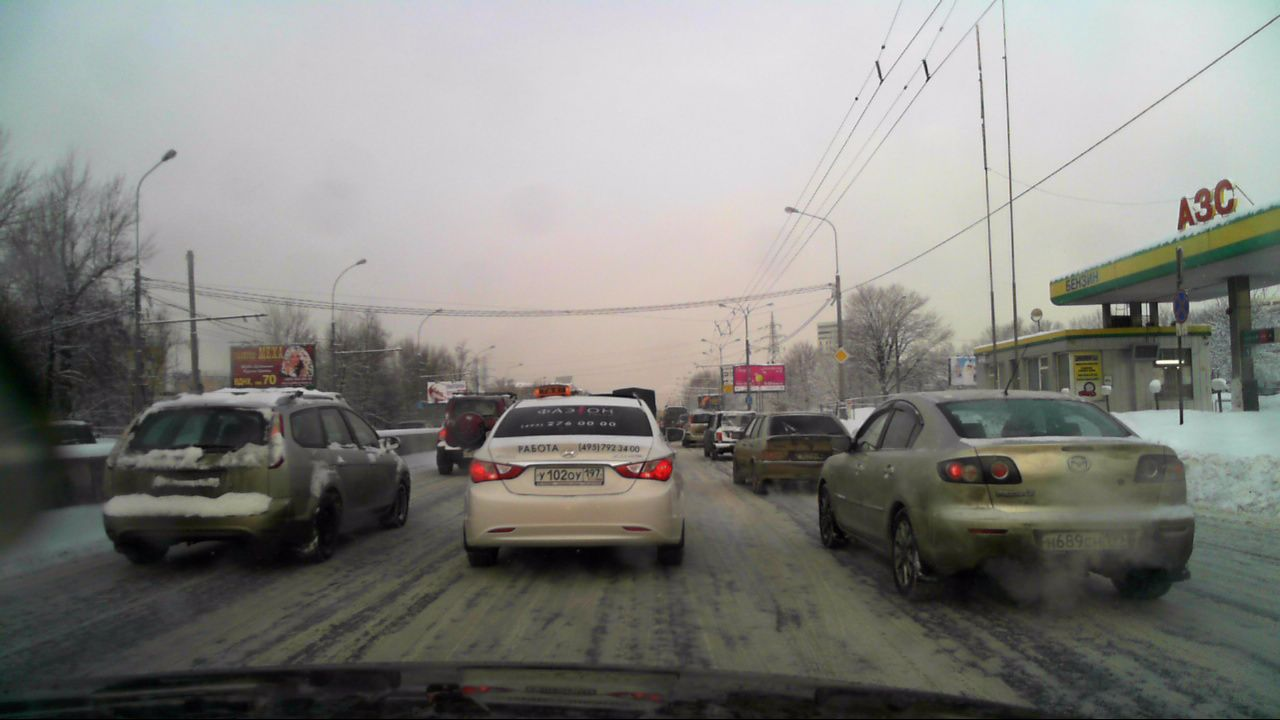No Parking: (1170, 290, 1195, 324)
